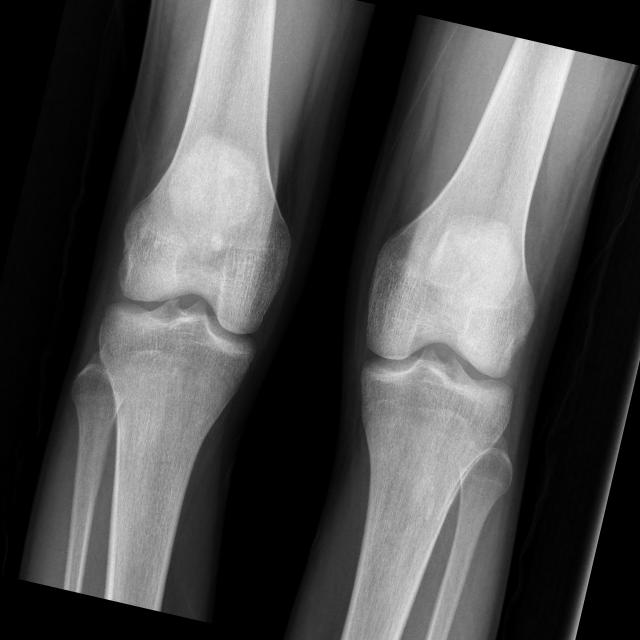Knee: (90, 194, 298, 398), (344, 250, 546, 452)
